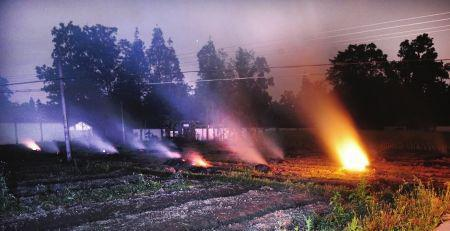fire: (329, 126, 372, 174), (189, 150, 208, 165), (163, 148, 184, 160), (26, 140, 43, 151)
